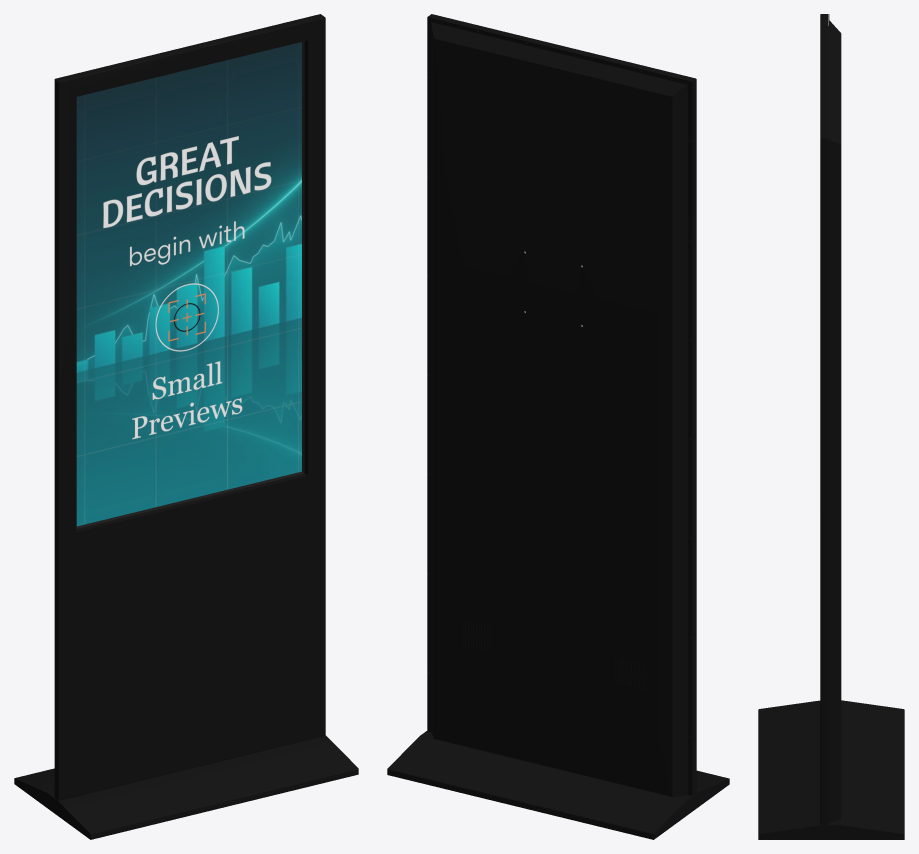
3 renders of one model, left to right at view 1: azimuth 30°, elevation 25°; view 2: azimuth 150°, elevation 25°; view 3: azimuth 270°, elevation 25°, orthographic. The views are drawn at different scales.
Parts seen in each view (by area): view 1: 50 Inch Totem - Assy.001, 50 Inch Totem - Assy.002; view 2: 50 Inch Totem - Assy.001; view 3: 50 Inch Totem - Assy.001.
Part boxes in pixels (box(x1,y1,x2,y2)): 50 Inch Totem - Assy.001: box(14, 14, 358, 839); 50 Inch Totem - Assy.002: box(76, 42, 301, 526); 50 Inch Totem - Assy.001: box(387, 14, 729, 839); 50 Inch Totem - Assy.001: box(758, 14, 904, 839).
Bounding box in the file's own units: 0.7024 × 1.84 × 0.347.
Materials: 4 (1 with a texture image).
